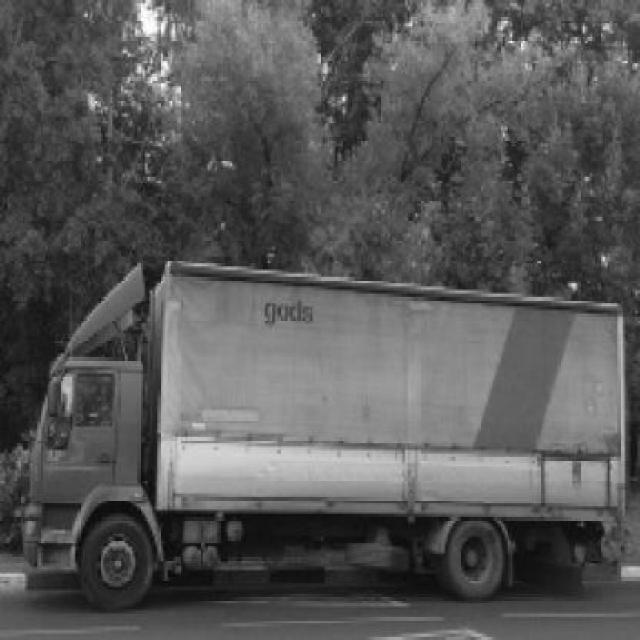Box Truck: (19, 262, 628, 612)
